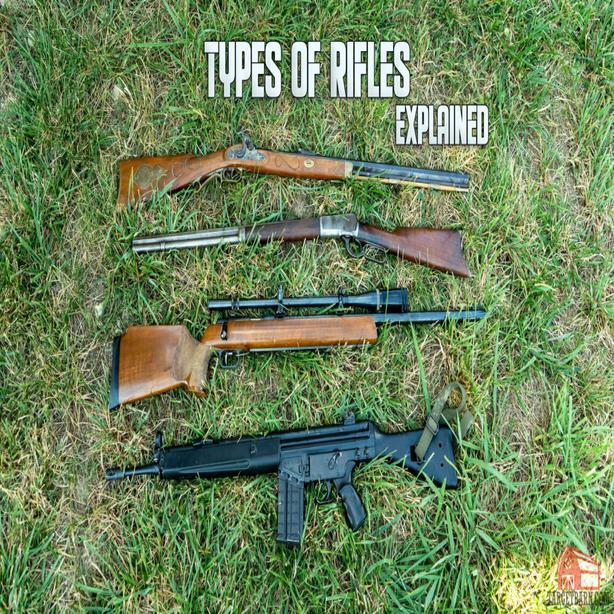Firearm: (106, 288, 507, 412), (98, 414, 471, 536), (104, 132, 499, 211), (120, 213, 477, 282)
